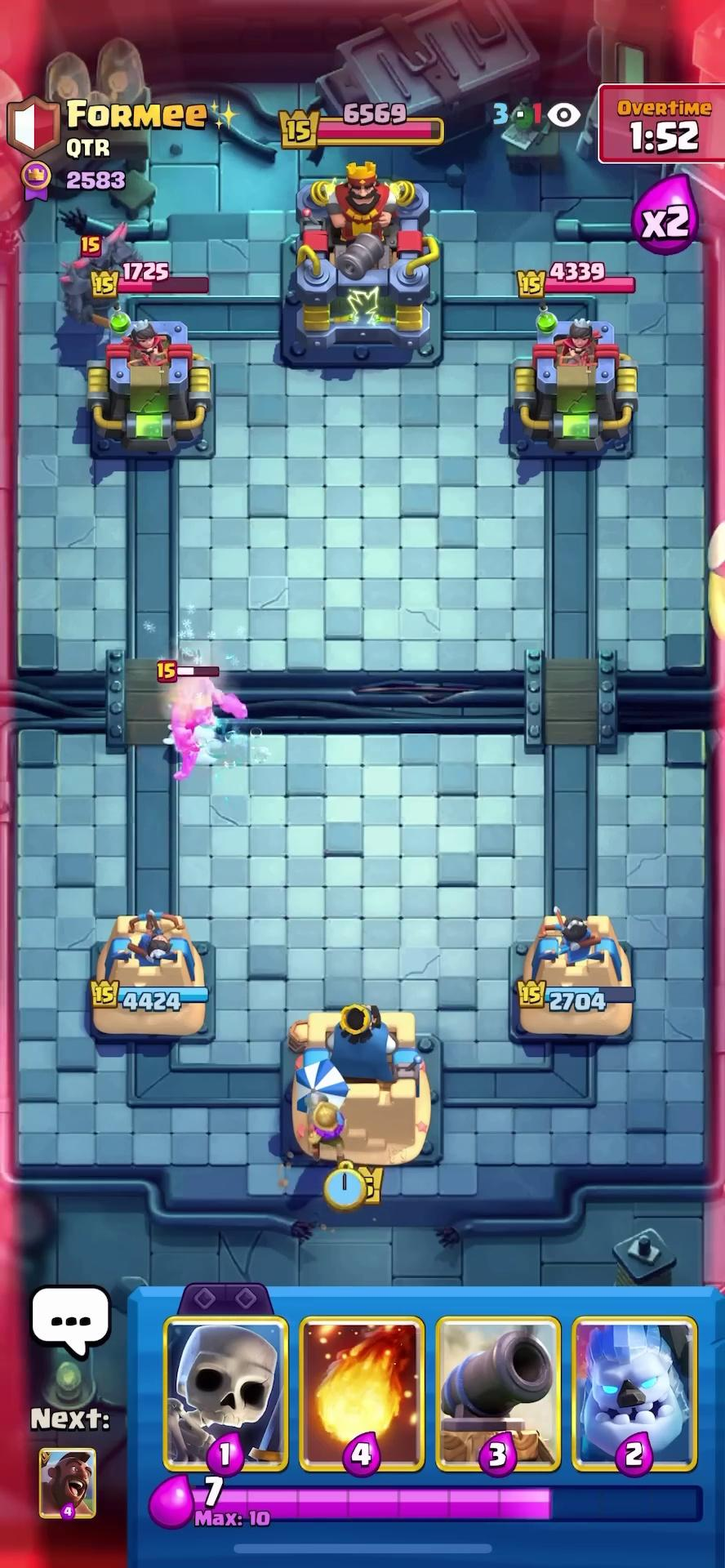musketeer: (288, 1082, 353, 1170)
